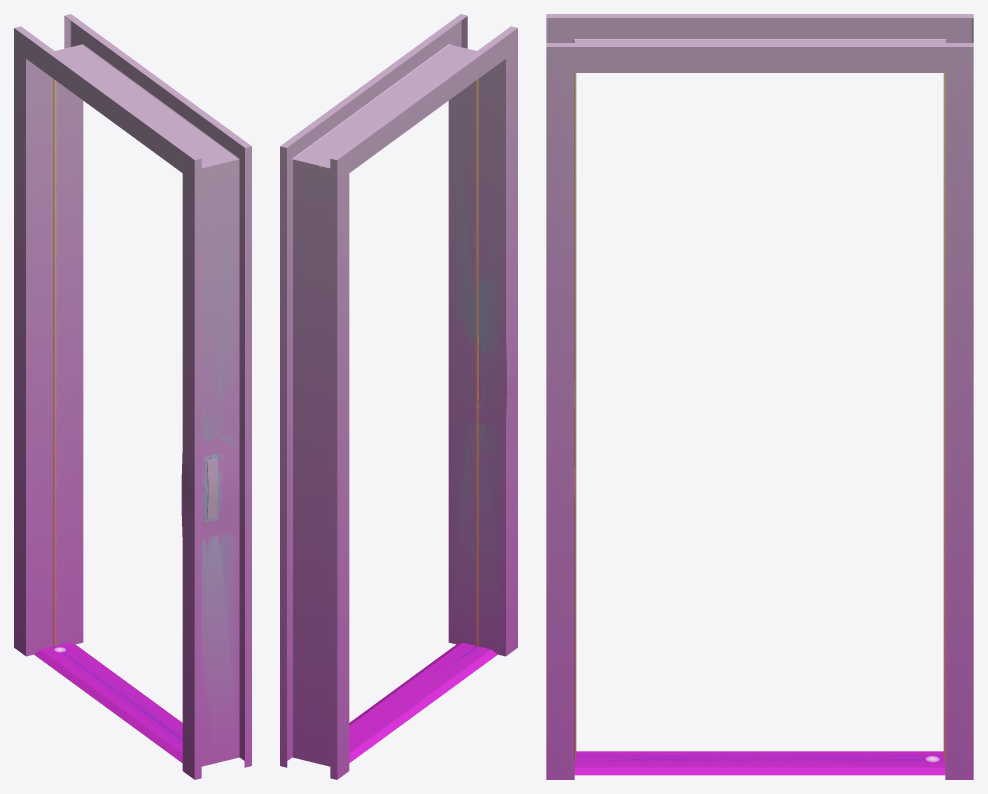
File: Kit_DoorFrameBreak_Steel_DA.fbx
The picture shows the model from 3 angles, left to right: view 1: azimuth 30°, elevation 25°; view 2: azimuth 150°, elevation 25°; view 3: azimuth 270°, elevation 25°; orthographic projection. The views are drawn at different scales.
Visible parts, largest first — view 1: body_L0, body_L2, body_L1, ins_D2_L0, ins_D2_L1, ins_TORN_L1, ins_D2_L2, ins_TORN_L0, ins_INTACT_L1, ins_INTACT_L2, ins_INTACT_L0, ins_TORN_L2; view 2: body_L0, body_L2, body_L1, ins_D2_L2, ins_D2_L0, ins_INTACT_L0, ins_D2_L1, ins_TORN_L2, ins_INTACT_L2, ins_TORN_L1; view 3: body_L0, body_L2, body_L1, ins_D2_L0, ins_D2_L2, ins_INTACT_L2.
Part boxes in pixels (bbox=[...]): body_L0: bbox=[14, 14, 250, 779]; body_L2: bbox=[14, 14, 251, 779]; body_L1: bbox=[41, 17, 244, 765]; ins_D2_L0: bbox=[183, 388, 250, 579]; ins_D2_L1: bbox=[183, 387, 244, 573]; ins_TORN_L1: bbox=[182, 437, 238, 538]; ins_D2_L2: bbox=[182, 387, 251, 580]; ins_TORN_L0: bbox=[181, 433, 238, 538]; ins_INTACT_L1: bbox=[202, 388, 239, 557]; ins_INTACT_L2: bbox=[182, 391, 242, 579]; ins_INTACT_L0: bbox=[183, 390, 238, 579]; ins_TORN_L2: bbox=[181, 447, 210, 551]; body_L0: bbox=[281, 14, 517, 779]; body_L2: bbox=[280, 14, 517, 779]; body_L1: bbox=[281, 14, 504, 766]; ins_D2_L2: bbox=[448, 272, 517, 456]; ins_D2_L0: bbox=[449, 273, 517, 456]; ins_INTACT_L0: bbox=[449, 273, 517, 455]; ins_D2_L1: bbox=[449, 272, 517, 454]; ins_TORN_L2: bbox=[449, 318, 517, 427]; ins_INTACT_L2: bbox=[448, 272, 517, 456]; ins_TORN_L1: bbox=[477, 325, 517, 414]; body_L0: bbox=[546, 14, 973, 779]; body_L2: bbox=[546, 14, 973, 779]; body_L1: bbox=[546, 18, 973, 767]; ins_D2_L0: bbox=[547, 326, 576, 543]; ins_D2_L2: bbox=[546, 342, 574, 543]; ins_INTACT_L2: bbox=[546, 344, 574, 543].
Size of the model in its own units: 0.215 by 2.17 by 1.15.
